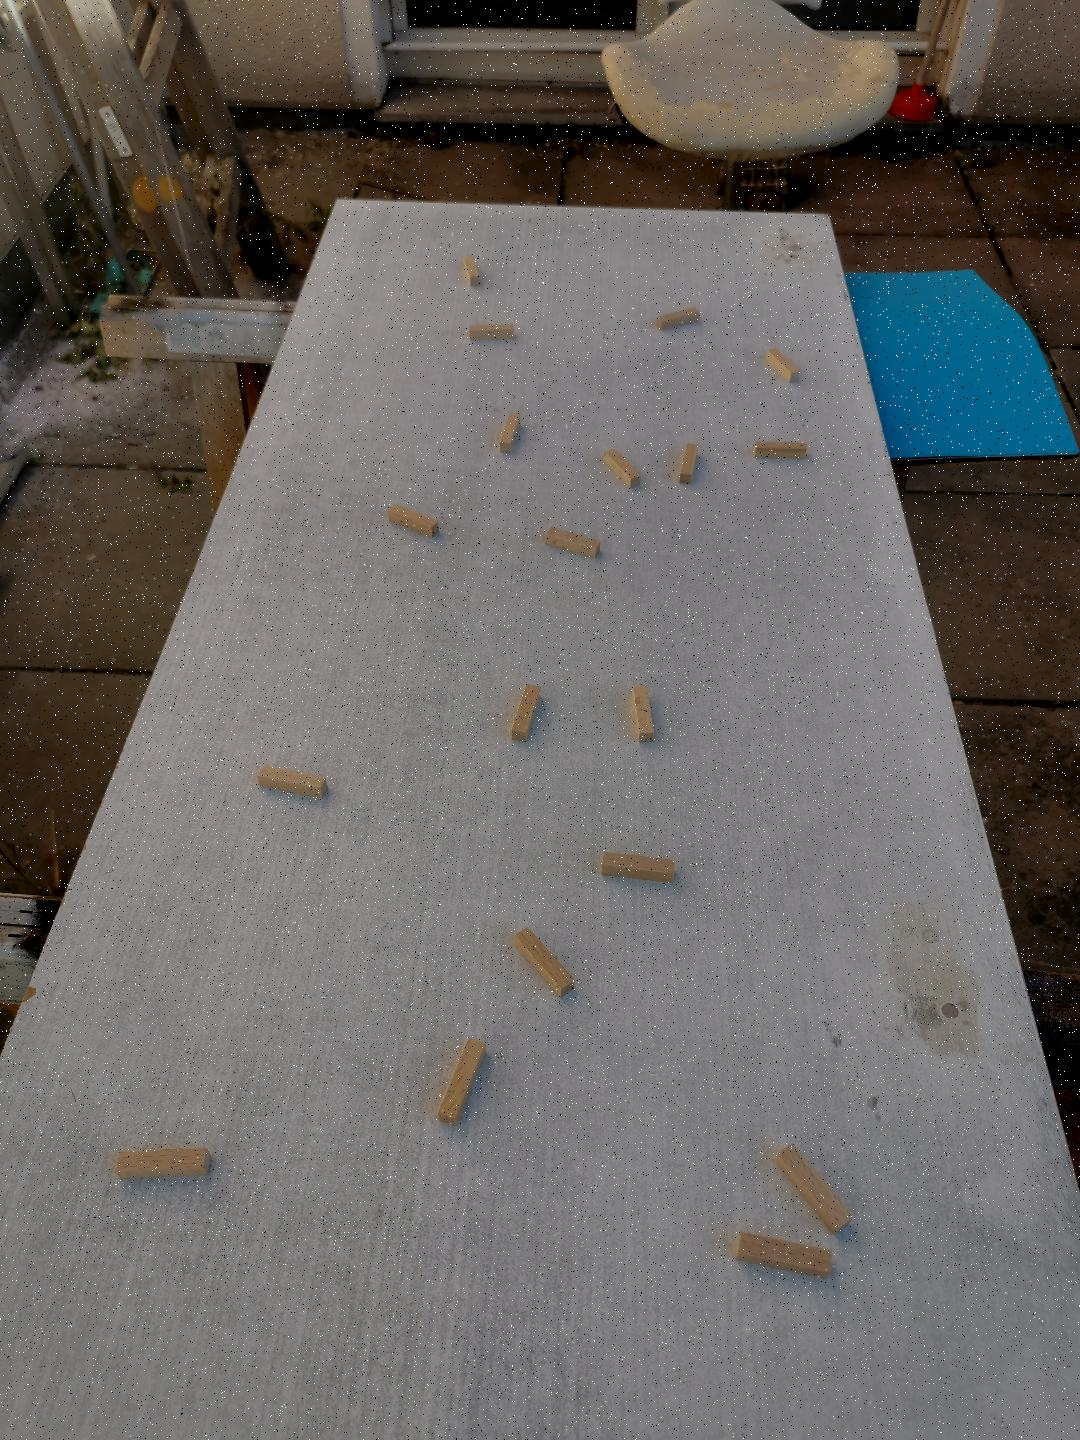jenga: (774, 1145, 852, 1231), (734, 1231, 833, 1277), (439, 1037, 487, 1125), (515, 929, 574, 996), (116, 1147, 208, 1178), (256, 765, 327, 798), (602, 853, 675, 883), (388, 503, 439, 537), (546, 526, 599, 557), (512, 684, 540, 739), (602, 450, 641, 486), (633, 686, 656, 743), (765, 349, 799, 382), (656, 306, 700, 329), (753, 441, 808, 458), (498, 414, 521, 452), (677, 444, 698, 484), (470, 323, 515, 340), (462, 256, 481, 287)
